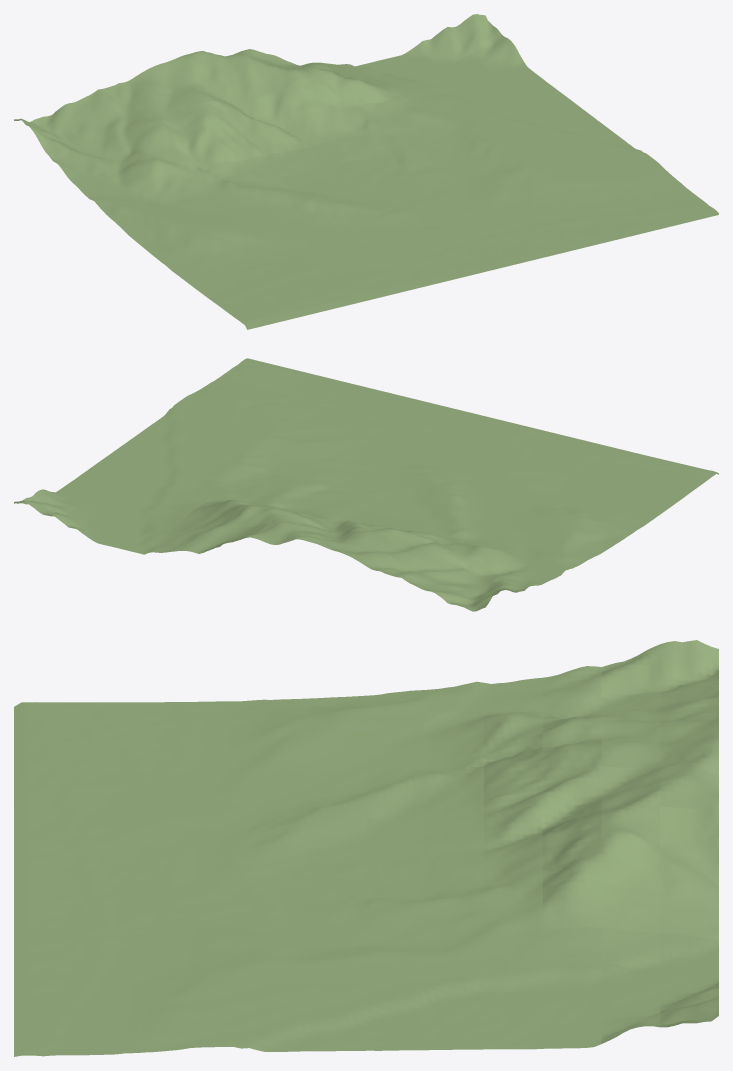
Rendered from terrain_lod3.glb.
The picture shows the model from 3 angles, top to bottom: view 1: azimuth 30°, elevation 25°; view 2: azimuth 150°, elevation 25°; view 3: azimuth 270°, elevation 25°; orthographic projection. The views are drawn at different scales.
Parts seen in each view (by area): view 1: t_6_9, t_6_10, t_7_9, t_12_11, t_13_11, t_3_8, t_4_11, t_2_11, t_5_8, t_2_9, t_13_10, t_8_9 (+146 smaller); view 2: t_8_11, t_2_10, t_1_8, t_9_4, t_10_4, t_10_6, t_0_5, t_2_9, t_7_10, t_0_1, t_6_11, t_0_4 (+136 smaller); view 3: t_8_10, t_7_11, t_9_9, t_9_10, t_0_11, t_9_11, t_0_10, t_8_11, t_10_10, t_10_9, t_5_9, t_5_5 (+153 smaller).
Boxes of the visible parts, box(x1,y1,x2,y2) form: t_6_9: box(255, 84, 307, 128); t_6_10: box(236, 62, 288, 99); t_7_9: box(289, 76, 341, 113); t_12_11: box(418, 27, 471, 65); t_13_11: box(452, 14, 504, 53); t_3_8: box(173, 131, 226, 170); t_4_11: box(149, 56, 201, 93); t_2_11: box(81, 85, 133, 122); t_5_8: box(241, 122, 293, 156); t_2_9: box(120, 120, 173, 157); t_13_10: box(471, 37, 524, 72); t_8_9: box(322, 75, 374, 108); t_8_11: box(182, 525, 235, 553); t_2_10: box(404, 549, 455, 581); t_1_8: box(477, 547, 528, 574); t_9_4: box(285, 442, 337, 466); t_10_4: box(251, 430, 303, 457); t_10_6: box(212, 458, 264, 482); t_0_5: box(569, 526, 621, 552); t_2_9: box(424, 543, 475, 570); t_7_10: box(236, 505, 288, 527); t_0_1: box(646, 476, 699, 499); t_6_11: box(249, 520, 302, 544); t_0_4: box(588, 516, 641, 540); t_8_10: box(601, 833, 660, 890); t_7_11: box(660, 804, 718, 859); t_9_9: box(542, 876, 601, 930); t_9_10: box(601, 881, 660, 933); t_0_11: box(660, 640, 718, 692); t_9_11: box(660, 891, 718, 938); t_0_10: box(601, 644, 660, 698); t_8_11: box(660, 849, 718, 898); t_10_10: box(601, 928, 660, 969); t_10_9: box(542, 927, 601, 964); t_5_9: box(542, 767, 601, 820); t_5_5: box(307, 812, 366, 848).
Size of the model in its own units: 3584 by 461 by 3072.
